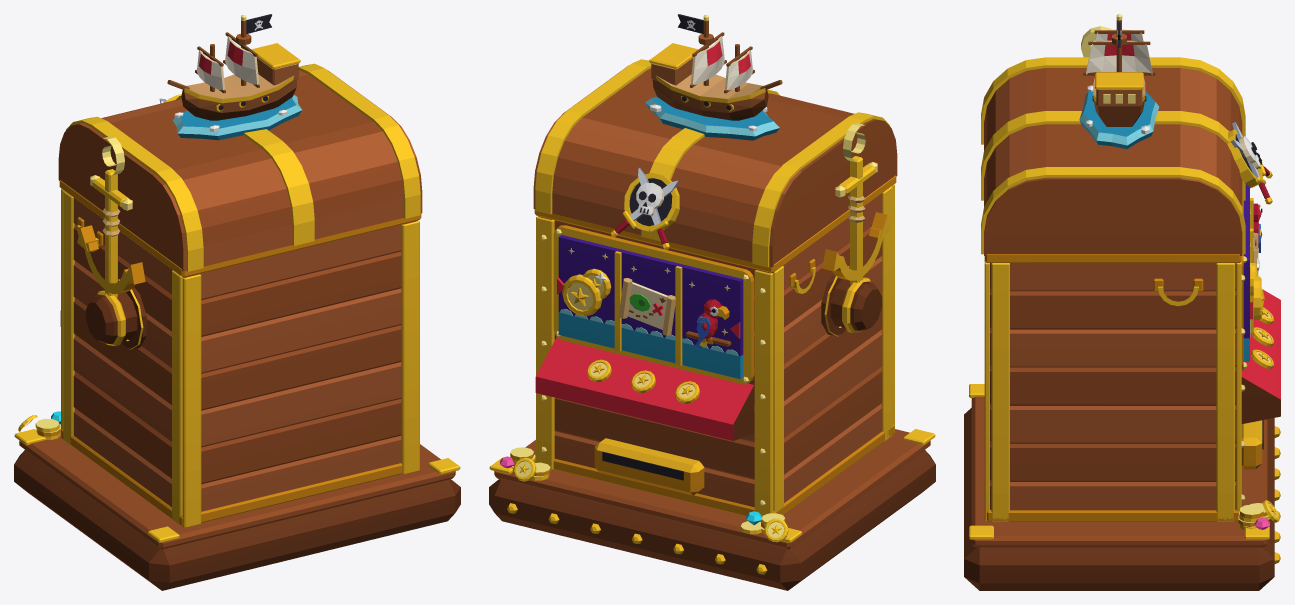
The model's file is PirateFortuneMachine.glb.
3 renders of one model, left to right at view 1: azimuth 30°, elevation 25°; view 2: azimuth 150°, elevation 25°; view 3: azimuth 270°, elevation 25°, orthographic. The views are drawn at different scales.
Visible parts, largest first — view 1: Cabinet, Base, Topper, Lever; view 2: Cabinet, Base, Screen, Topper, Lever; view 3: Cabinet, Base, Topper, Screen.
Boxes of the visible parts, x1,y1,x2,y2 form: Cabinet: (58,63,422,527); Base: (14,411,460,590); Topper: (167,14,302,140); Lever: (77,136,145,346); Cabinet: (533,59,897,516); Base: (489,429,935,590); Screen: (557,235,743,379); Topper: (645,14,782,140); Lever: (822,123,890,332); Cabinet: (981,57,1280,521); Base: (964,384,1280,590); Topper: (1079,14,1159,149); Screen: (1243,184,1264,361).
Size of the model in its own units: 6 by 9.02 by 5.1.
Materials: 1 (1 with a texture image).
